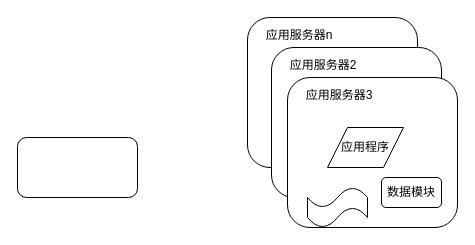
Some shapes in this 475 by 245 pixel diagram are drawn without their labels. The shapes that lost their labels are listed below. From the top down, each one's centre as x and y in pixels, then its label:
At point (77, 167): "负载均衡调度服务器".
At point (337, 207): "本地缓存".
